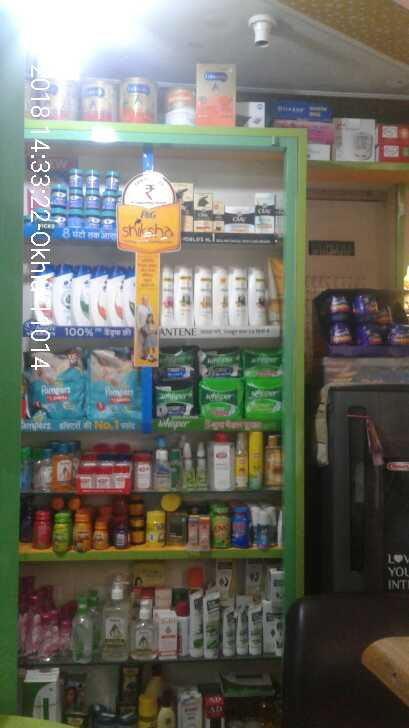vicks: (46, 166, 127, 226)
